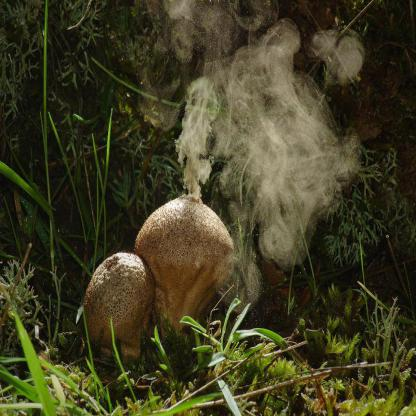Mushroom: (132, 188, 235, 380), (80, 250, 156, 374)
